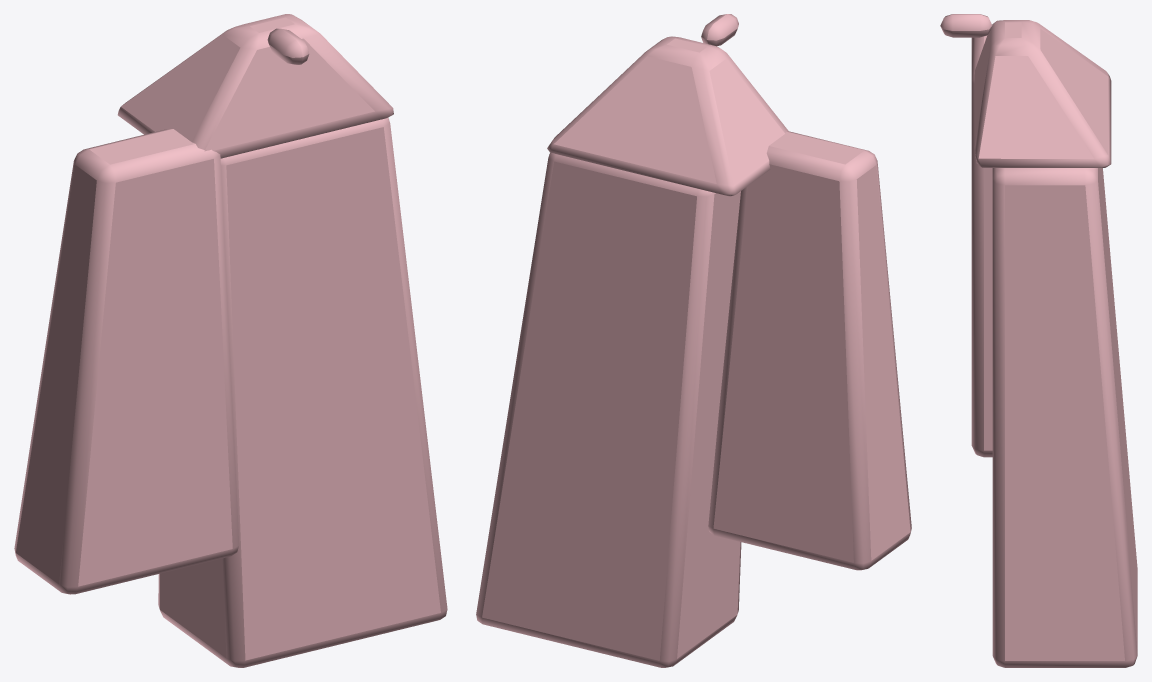
File: TuiNilon_Treo.glb
3 views of the same model, side by side, from view 1: azimuth 30°, elevation 25°; view 2: azimuth 150°, elevation 25°; view 3: azimuth 270°, elevation 25° (orthographic). The views are drawn at different scales.
Visible parts, largest first — view 1: TuiNilon_Treo; view 2: TuiNilon_Treo; view 3: TuiNilon_Treo.
Part boxes in pixels (bbox=[...]): TuiNilon_Treo: bbox=[14, 14, 447, 667]; TuiNilon_Treo: bbox=[476, 14, 911, 667]; TuiNilon_Treo: bbox=[940, 14, 1137, 667].
Size of the model in its own units: 0.1987 by 0.306 by 0.0945.
